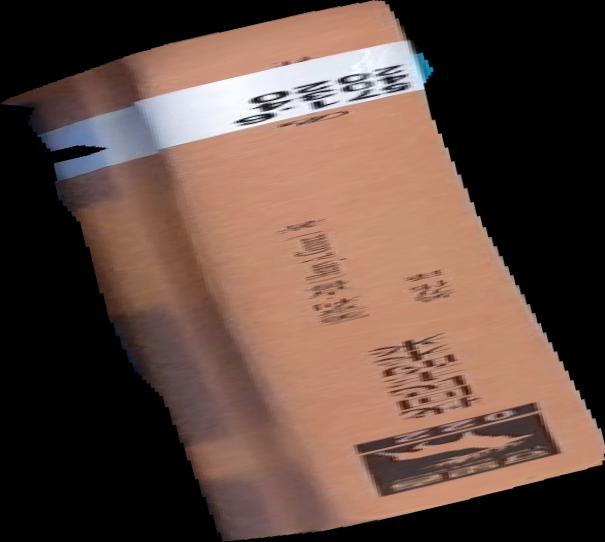reverse: (1, 1, 605, 542)
